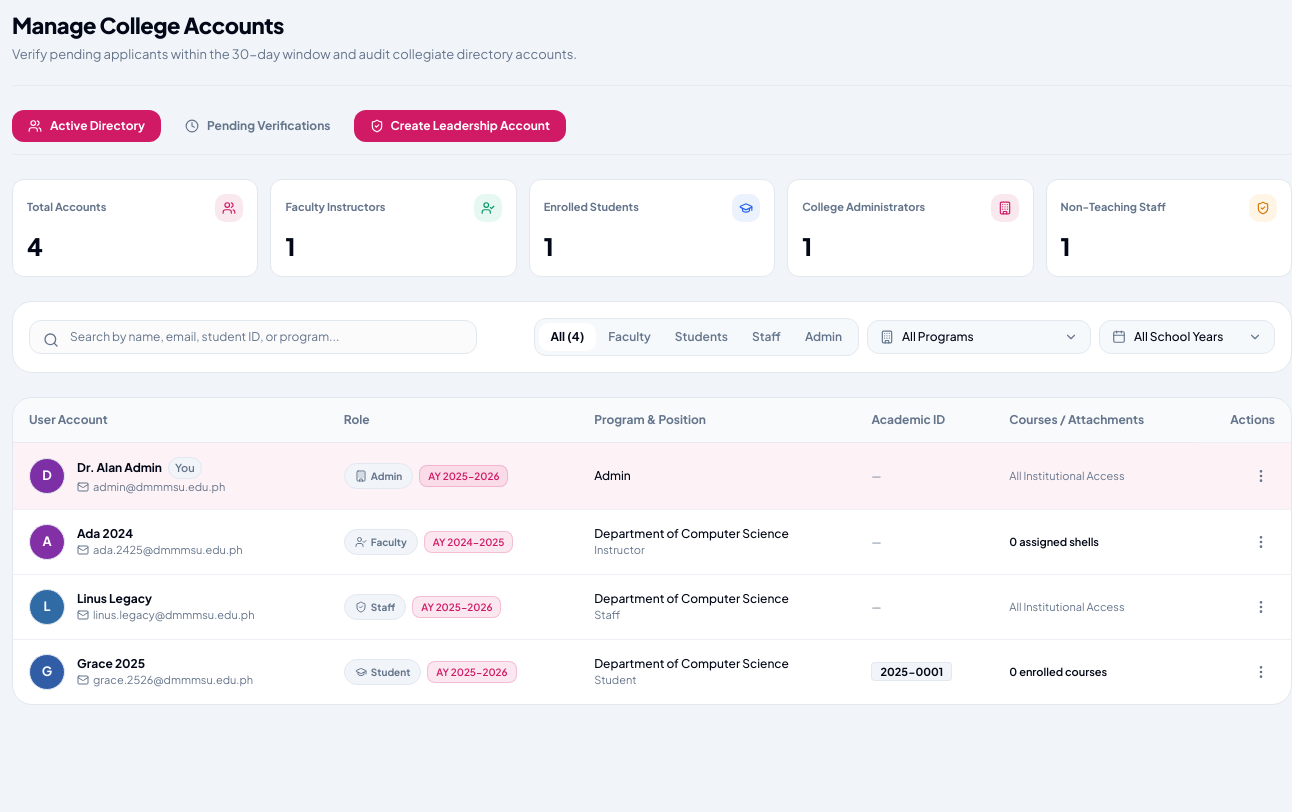
Test case: ManageAccountsPage - School Year Tagging & Filtering › gracefully matches users without explicit schoolYear to "2025-2026"
The width and height of the screenshot is (1292, 812).
Note: Open School Year dropdown
What coordinates should you click on to do the following:
click the button "All School Years"
I would click on:
 (1187, 337)
Its box is [1099,320,1275,354].
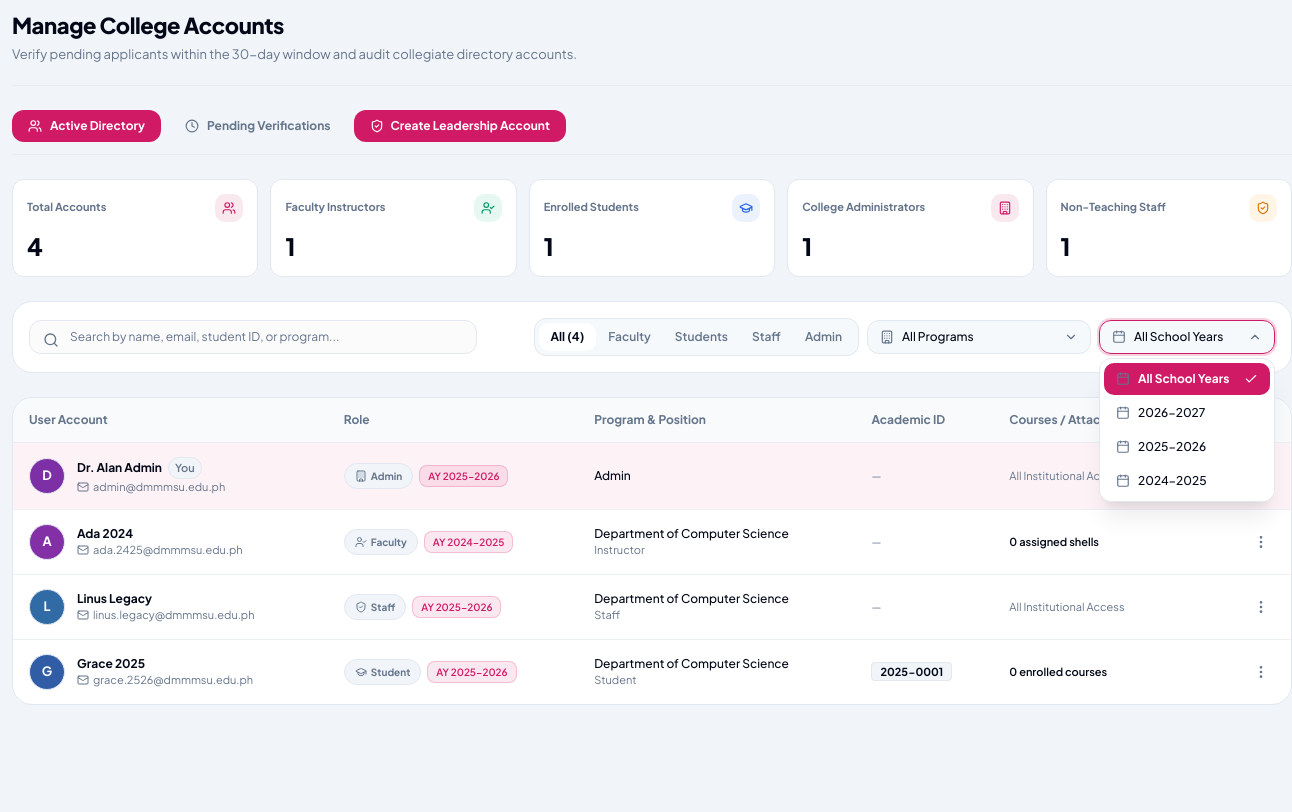
Note: Click 2025-2026 option
What coordinates should you click on to do the following:
click the option "2025-2026"
I would click on:
 (1187, 447)
Its box is [1104,431,1270,463].
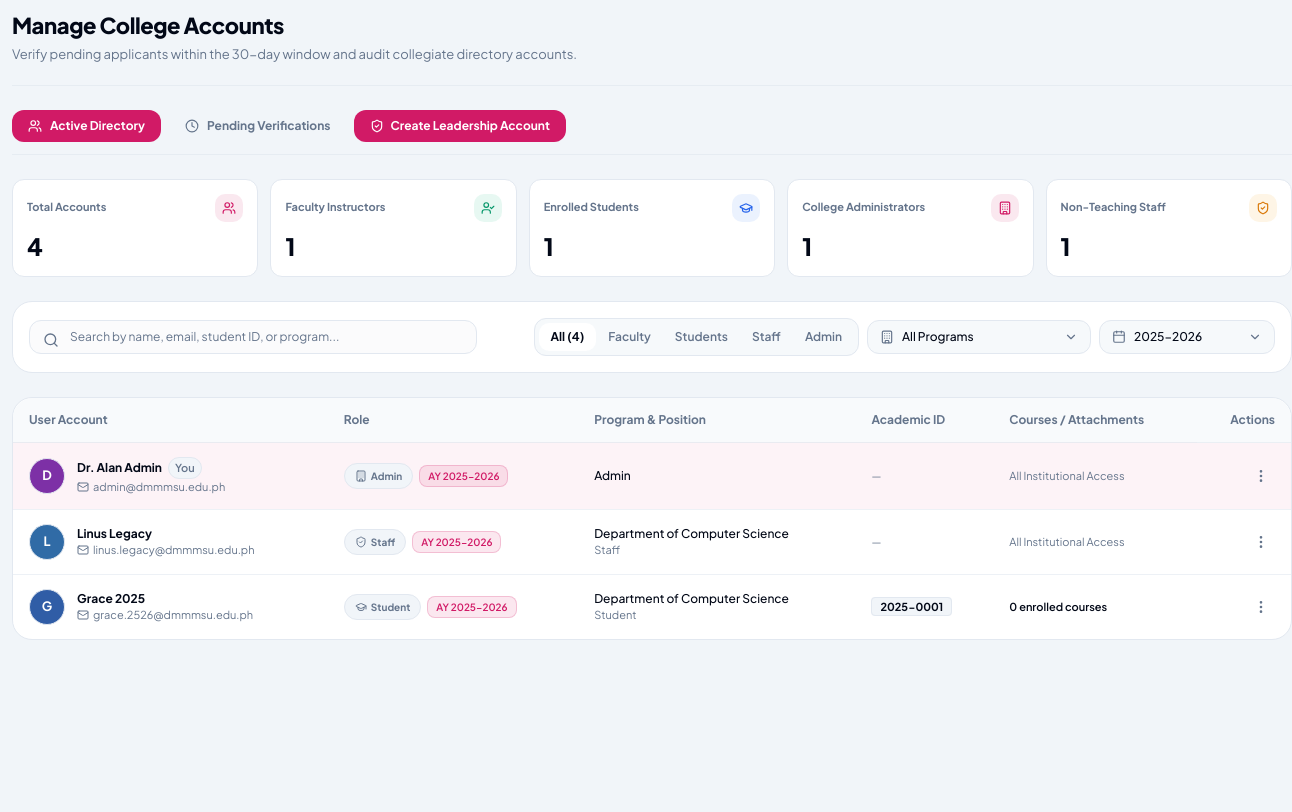
Check: the text "Grace 2025" is shown, box [77,591,145,607]
Check: the text "Ada 2024" is gone
